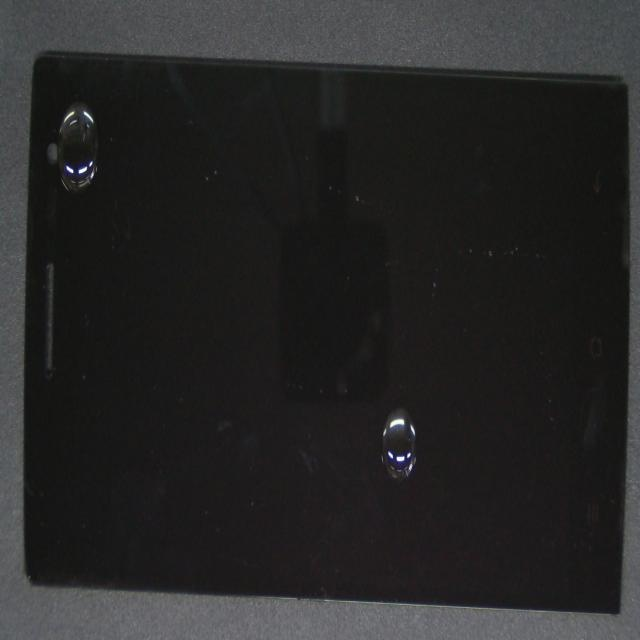oil: (210, 184, 583, 630), (58, 74, 139, 179)
